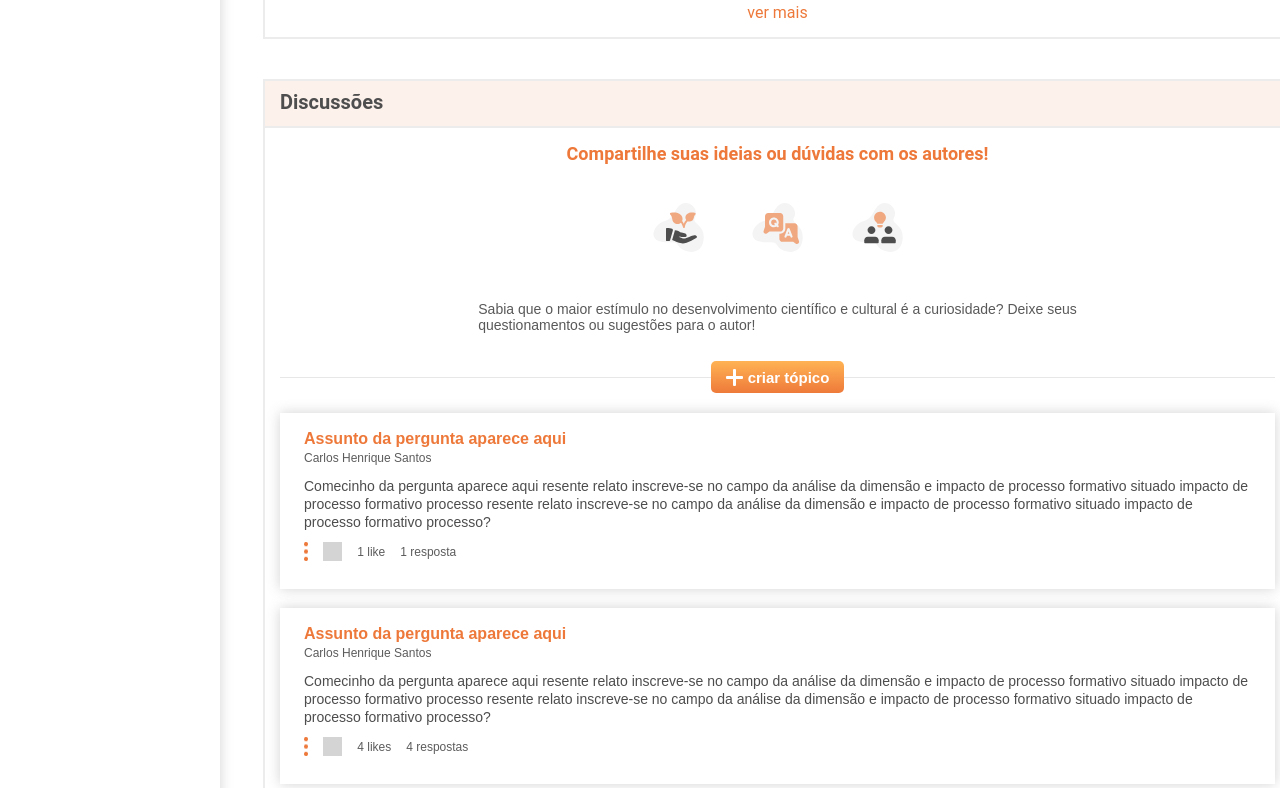
Test case: checa elementos básicos › enviar o formulário exibe mensagem de sucesso
(page scrolled)
Click the button with class "btn-create-topic" at [778, 377], box x1=711 y1=361 x2=844 y2=393
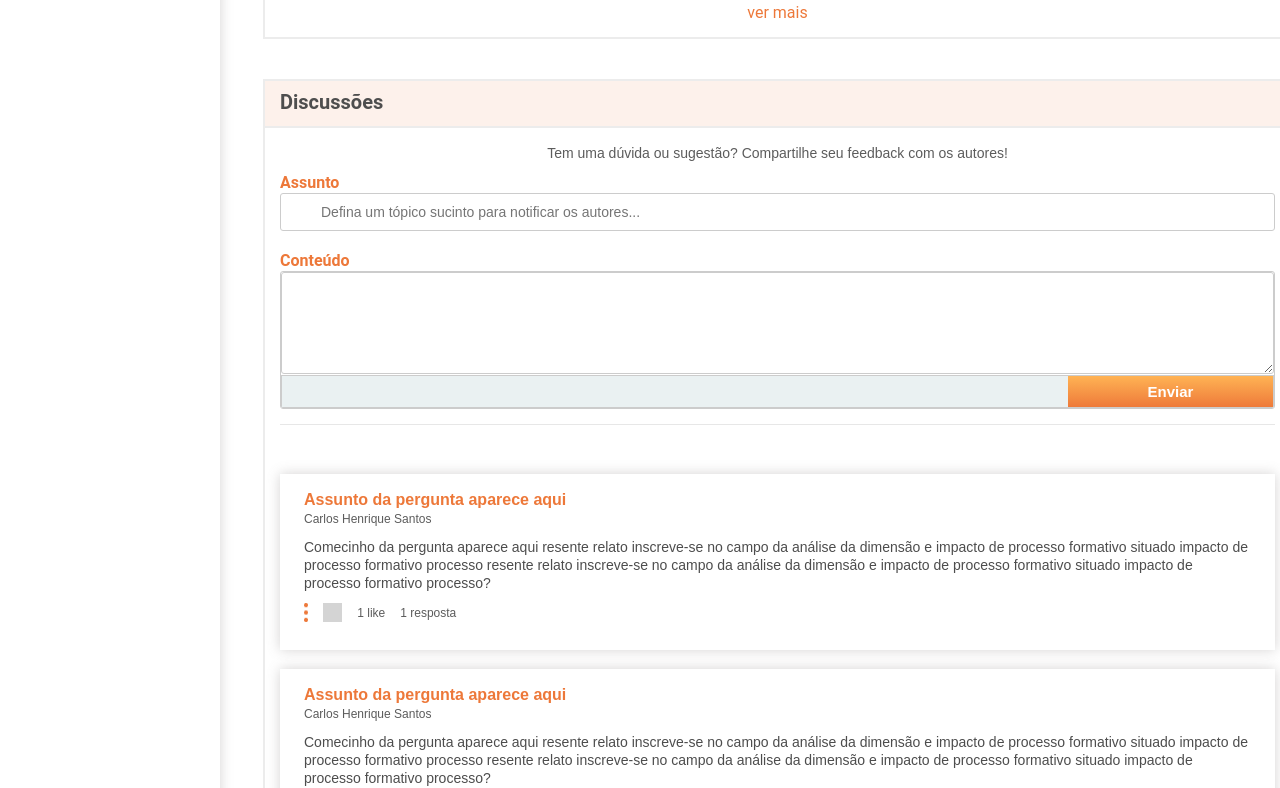
Type "Some subject" into the field with class "subject" at [778, 212], box x1=280 y1=193 x2=1275 y2=231
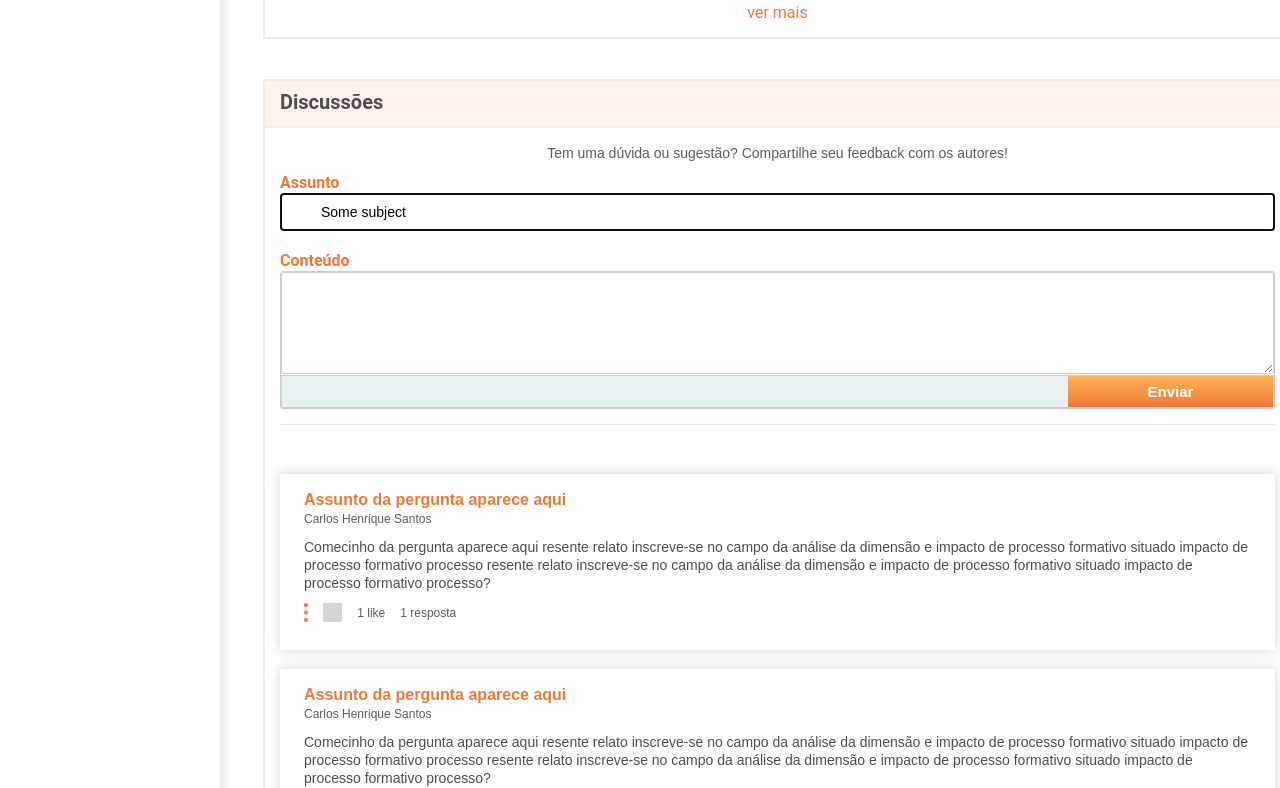
Type "Some content" into the text box at [778, 323], box x1=281 y1=272 x2=1274 y2=374
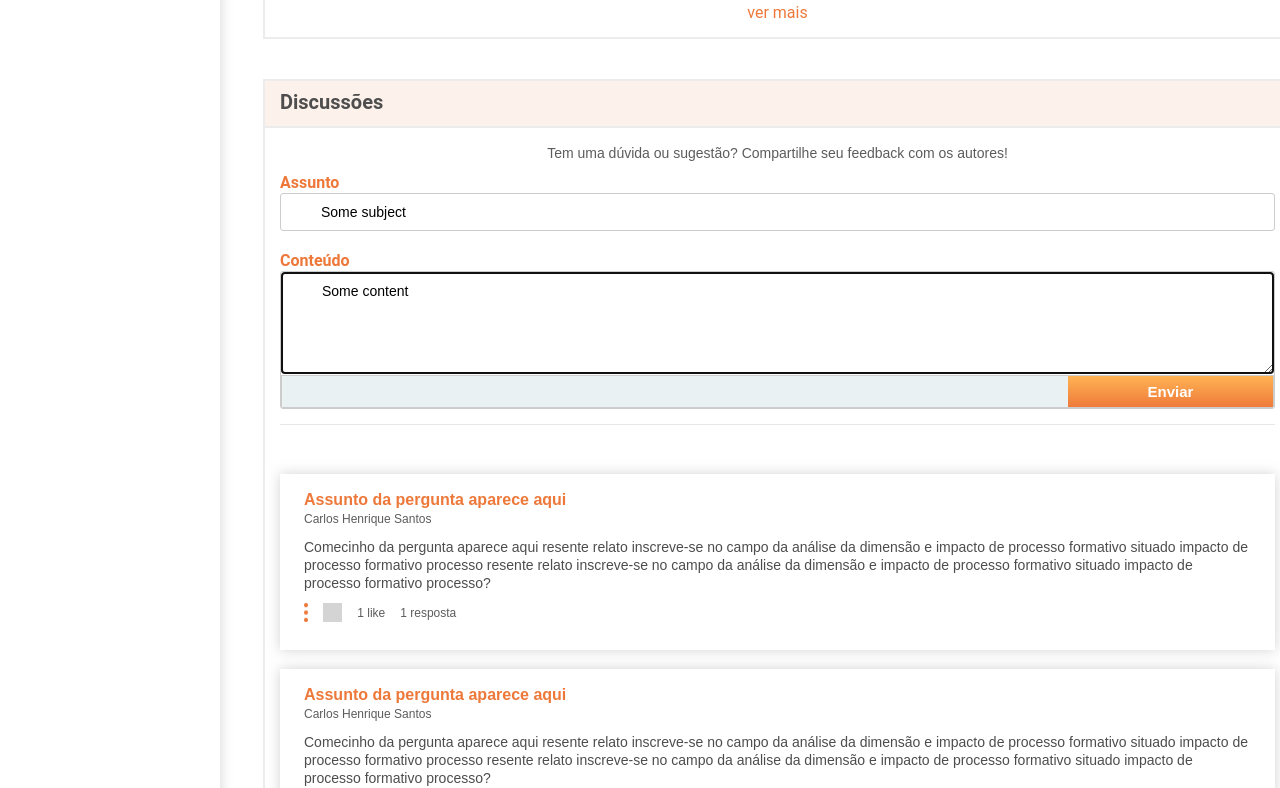
Click the button "Enviar" at [1171, 392], box x1=1068 y1=376 x2=1273 y2=407
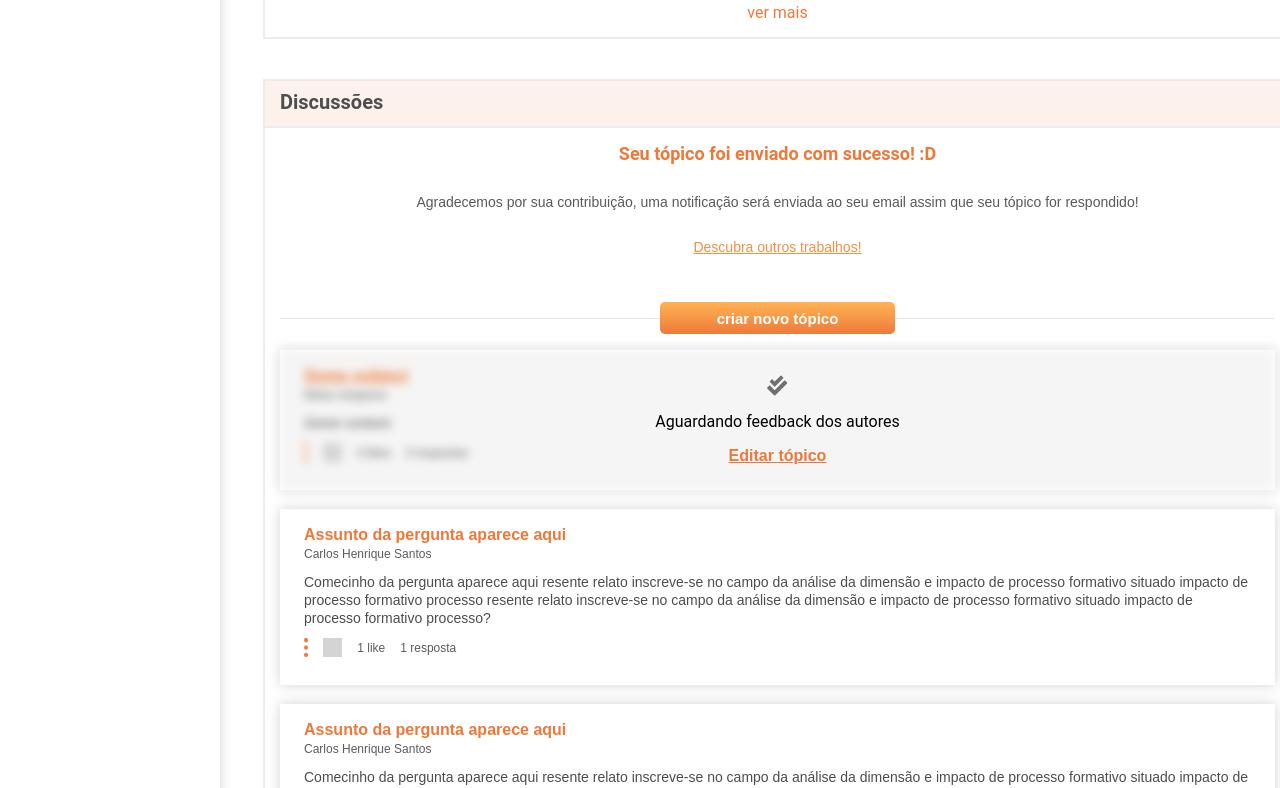
expect the text "Aguardando feedback dos autores" is shown: met, box x1=655 y1=412 x2=900 y2=431
